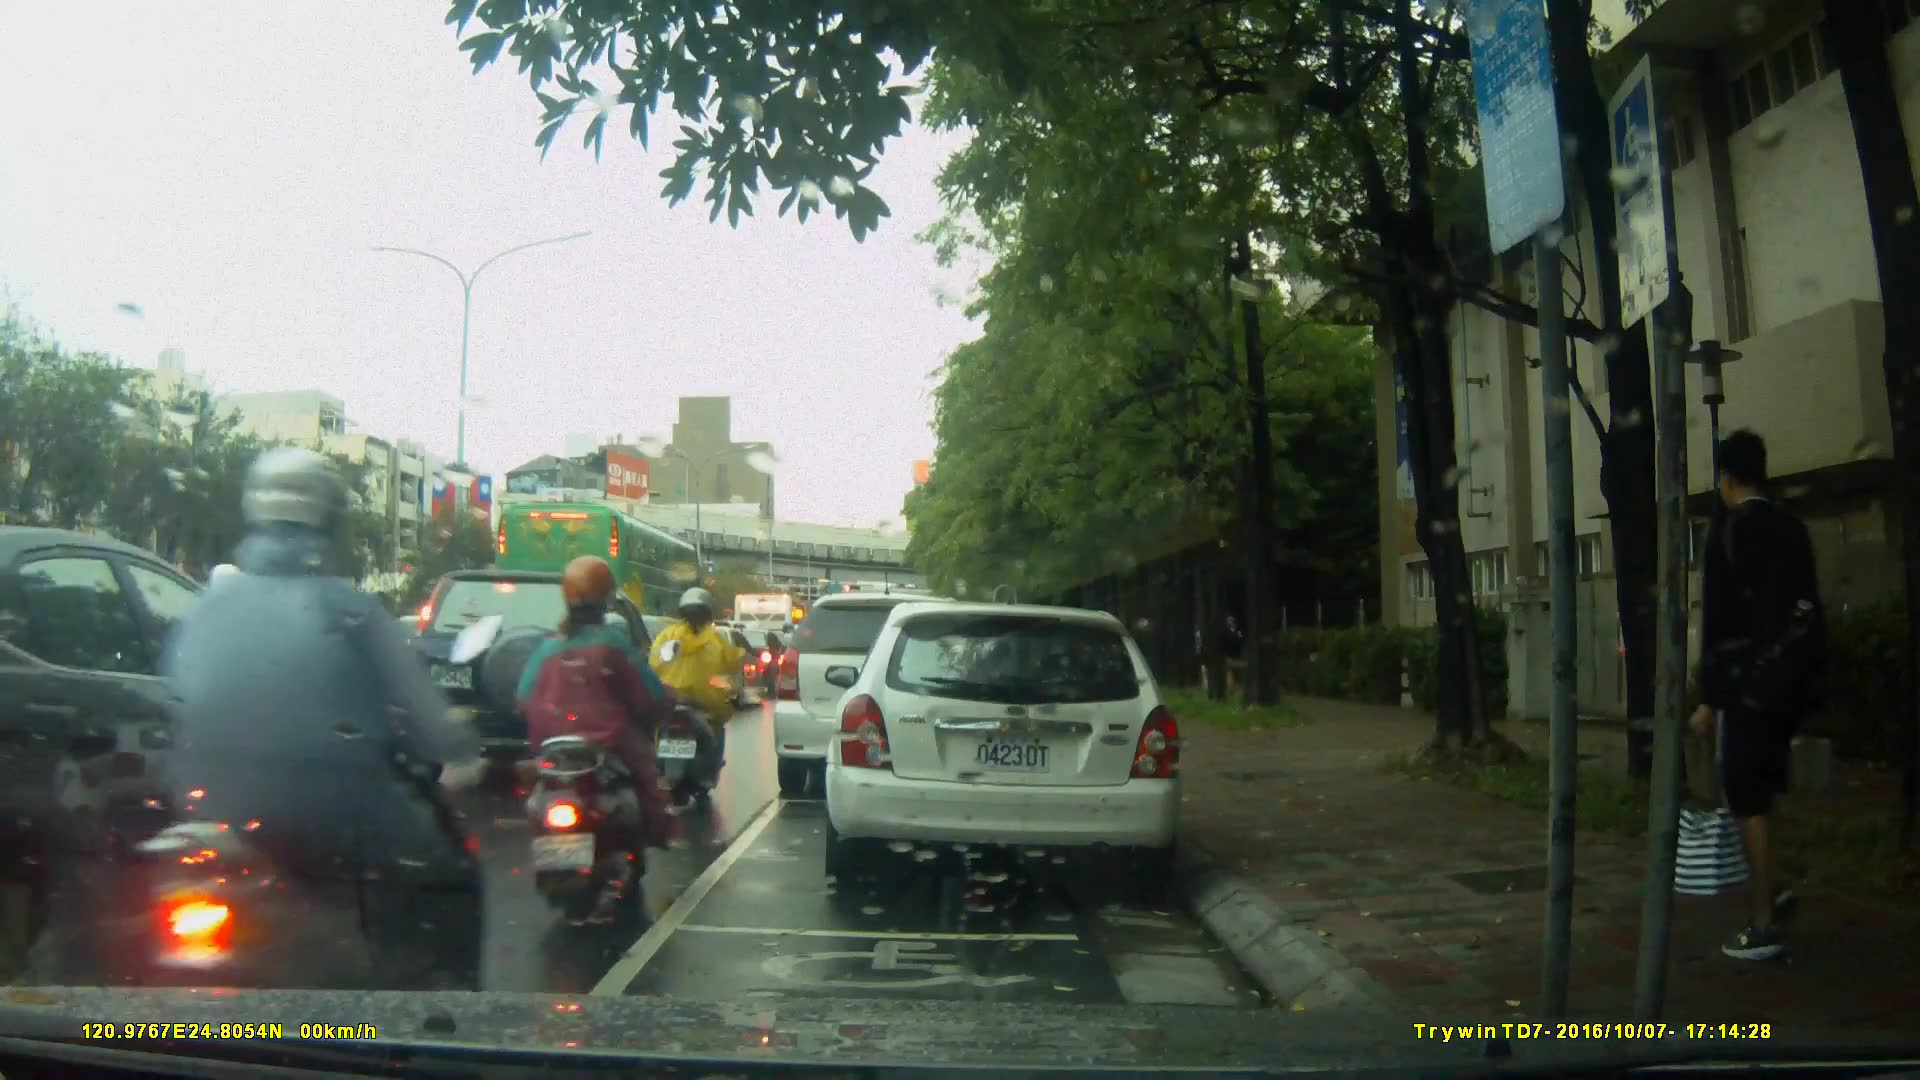pedestrian: (1651, 441, 1844, 986)
rider: (138, 442, 495, 1073), (517, 557, 666, 928), (185, 566, 296, 793), (651, 584, 746, 806)
vehicle: (5, 524, 393, 988), (831, 592, 1196, 897), (400, 566, 674, 797), (770, 592, 999, 800), (492, 499, 705, 658)
